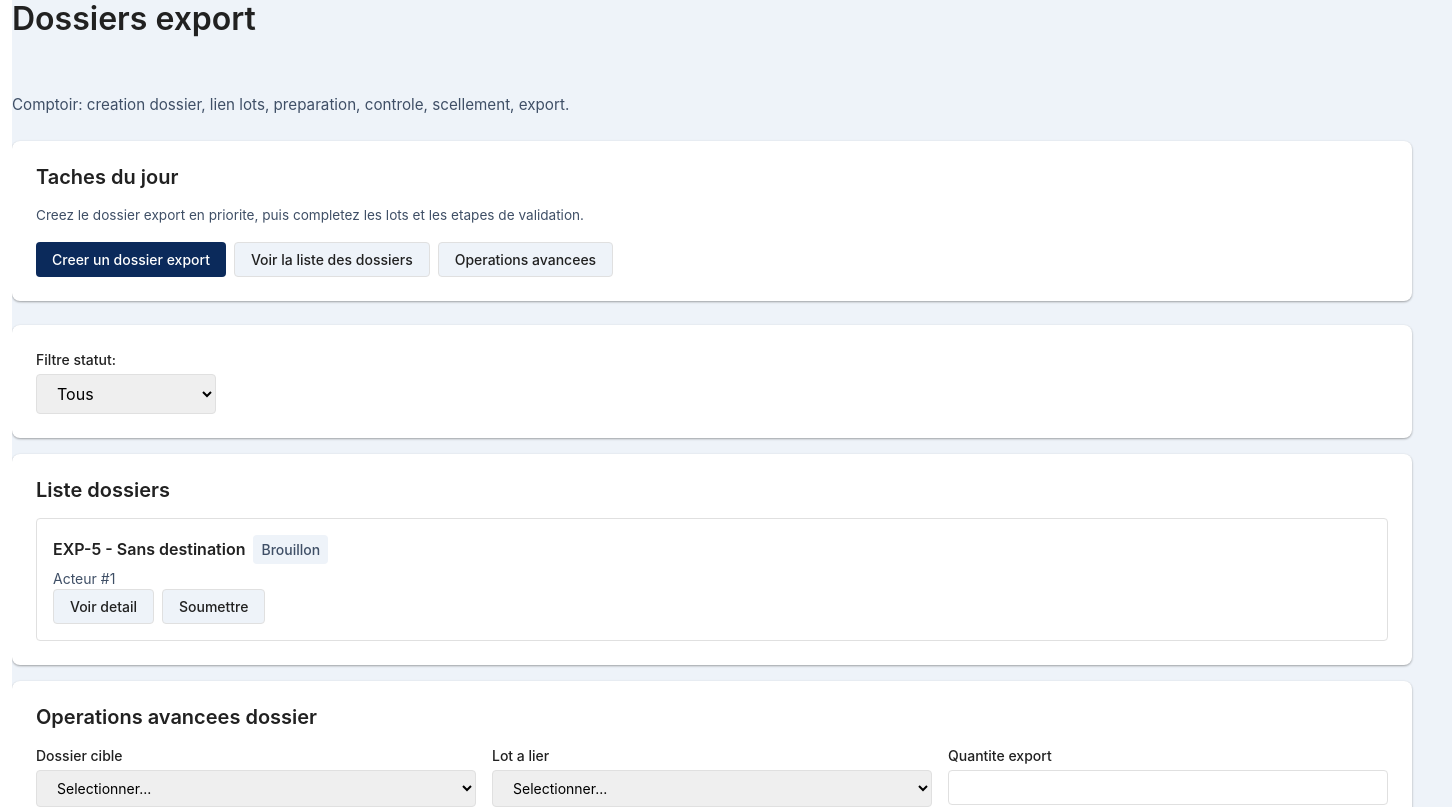
Test: ExportsPage wiring › loads export detail from /exports/{id}
Expected: the heading "Dossiers export" is shown, x1=12 y1=0 x2=256 y2=38
What coordinates should you click on to do the following:
click the button "Voir detail"
I would click on:
 (104, 606)
Its box is x1=53 y1=589 x2=154 y2=624.
(page scrolled)
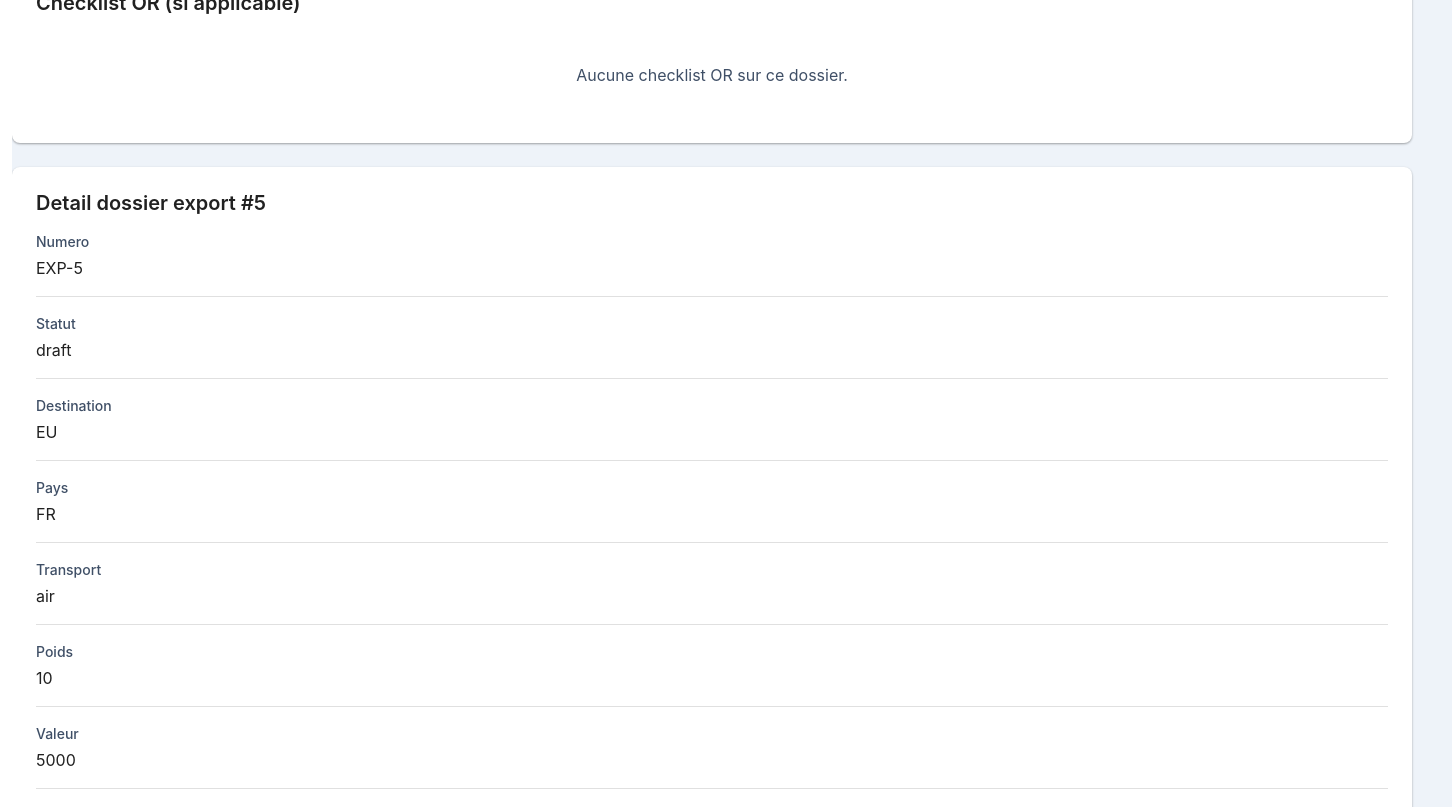
Now the heading "Detail dossier export #5" is shown, box x1=36 y1=191 x2=266 y2=215
Now the text "Destination" is shown, box x1=36 y1=397 x2=112 y2=414
